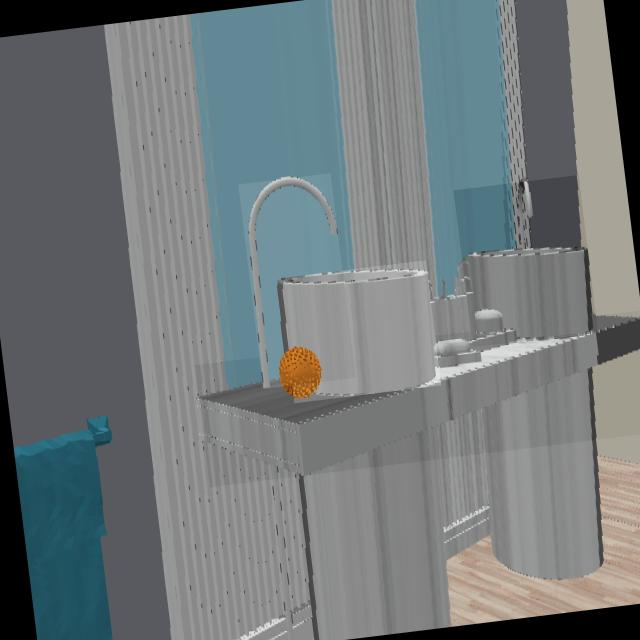shelf: (199, 316, 640, 473)
washbasin: (462, 182, 593, 340), (279, 270, 436, 395), (248, 177, 337, 388)
